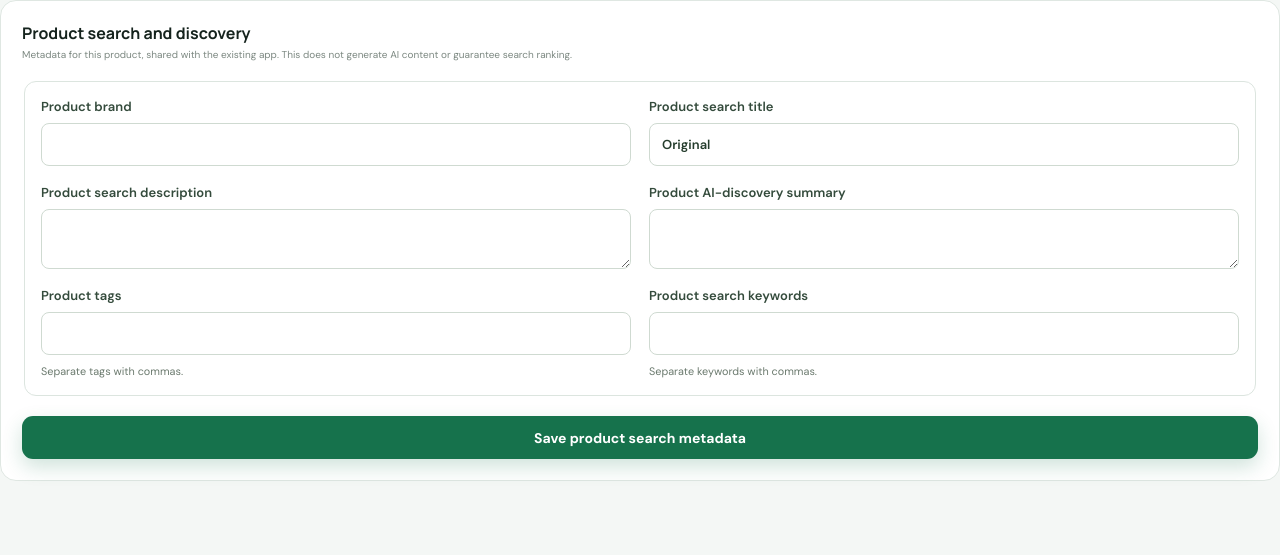
Test: Seller sprint forms › retains edited SEO fields when the server rejects the save
Replace the text in the field labelled "Product search title" with "Edited title" at (944, 144), box x1=649 y1=123 x2=1239 y2=166
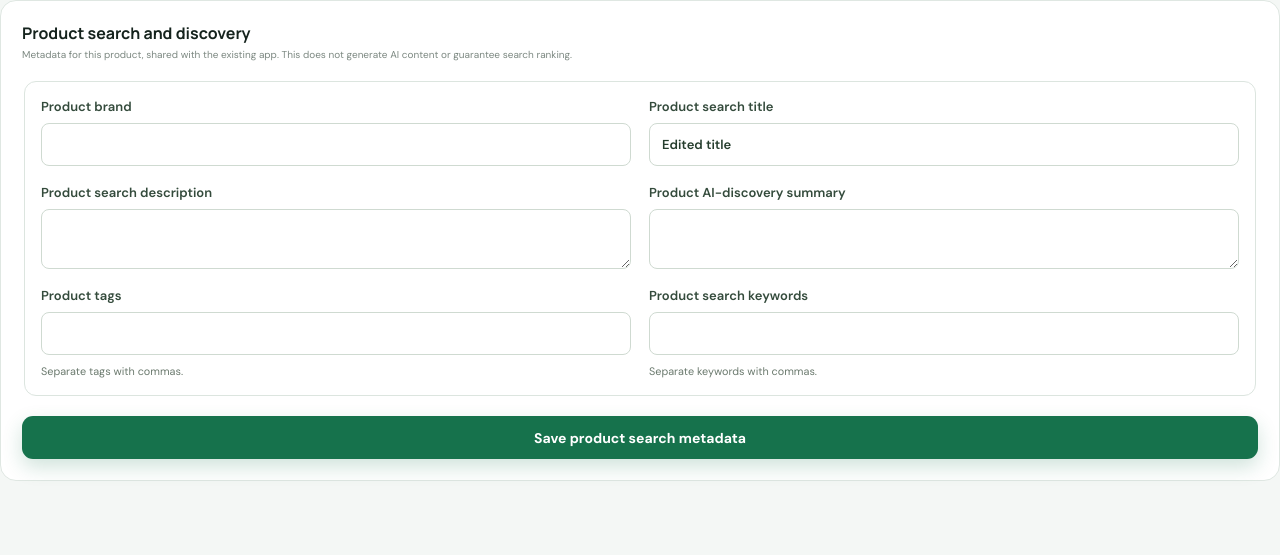
Click the button "Save product search metadata" at (640, 438), box x1=22 y1=416 x2=1258 y2=459
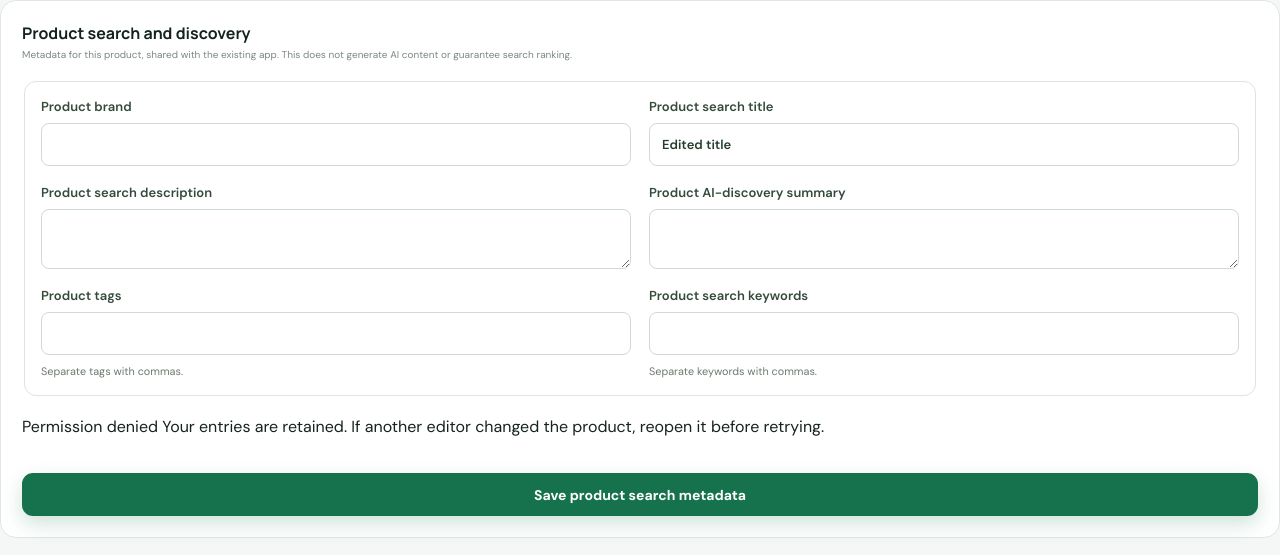
Expected: the message shows "Permission denied", x1=22 y1=416 x2=824 y2=437
